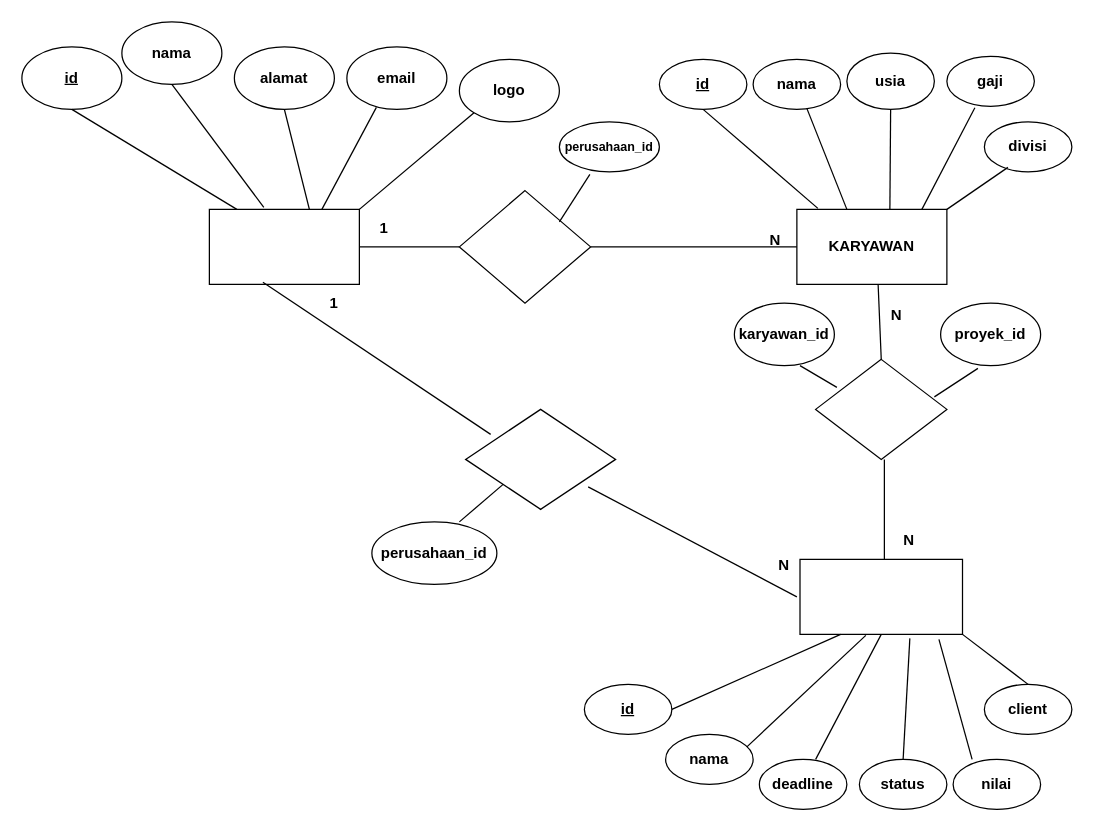
Some shapes in this 1094 by 831 pixel diagram are drawn without their labels. The centre of each missing label's shape, as x and y in pixels:
"Memiliki" belongs at point 524,246.
"Mengelola" belongs at point 540,458.
"Mengerjakan" belongs at point 880,408.
"PERUSAHAAN" belongs at point 283,246.
"PROYEK" belongs at point 880,596.
